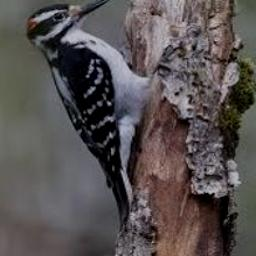Woodpecker: (27, 0, 152, 228)
